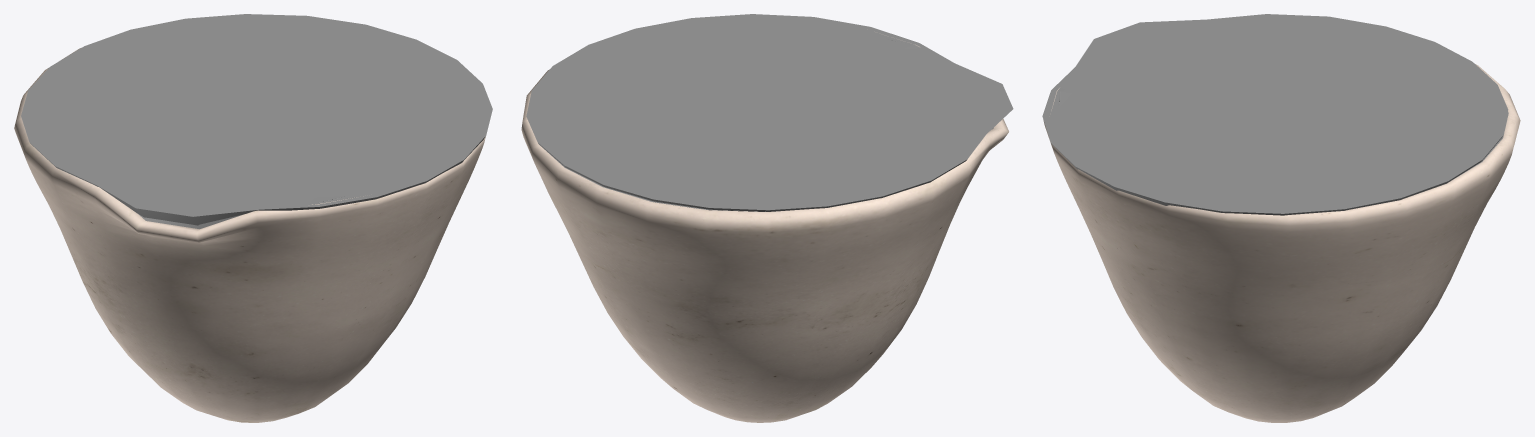
3 renders of one model, left to right at view 1: azimuth 30°, elevation 25°; view 2: azimuth 150°, elevation 25°; view 3: azimuth 270°, elevation 25°, orthographic.
Parts seen in each view (by area): view 1: Object001, 301, Inner; view 2: Object001, 301, Inner; view 3: Object001, 301.
Boxes of the visible parts, x1,y1,x2,y2 form: Object001: (21,14,492,225); 301: (14,48,485,422); Inner: (137,194,373,229); Object001: (526,14,1013,211); 301: (521,44,1008,422); Inner: (543,29,993,211); Object001: (1042,14,1508,215); 301: (1043,64,1520,422).
Bounding box in the file's own units: 139 × 96.47 × 139.
2 materials, 1 textured.
